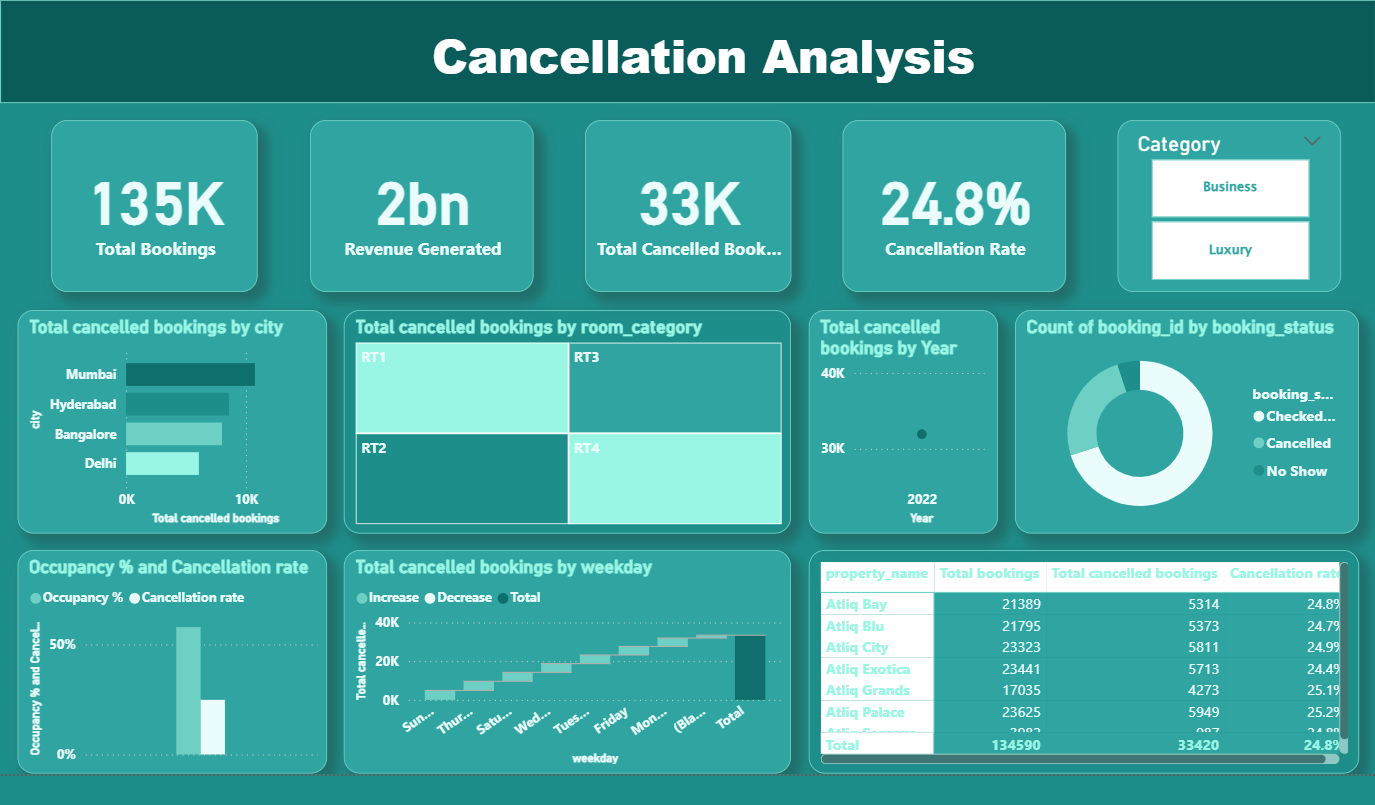

The dashboard page shown, as its layout file describes it:
{"tool":"powerbi","page":{"name":"Cancellation Analysis","canvas":[1280,720],"ordinal":3},"visuals":[{"type":"card","fields":{"Values":["resource_measures.Total bookings"]},"box":[48,112,192,160],"z":0},{"type":"card","fields":{"Values":["resource_measures.Total cancelled bookings"]},"box":[544,112,192,160],"z":1000},{"type":"card","fields":{"Values":["resource_measures.Cancellation rate"]},"box":[784,112,208,160],"z":2000},{"type":"card","fields":{"Values":["Sum(fact_bookings.revenue_generated)"]},"box":[288,112,208,160],"z":3000},{"type":"barChart","fields":{"Category":["dim_hotels.city"],"Y":["resource_measures.Total cancelled bookings"]},"box":[16,288,288,208],"z":4000},{"type":"treemap","fields":{"Group":["fact_aggregated_bookings.room_category"],"Values":["resource_measures.Total cancelled bookings"]},"box":[320,288,416,208],"z":5000},{"type":"lineChart","fields":{"Category":["dim_date.mmm yy.Variation.Date Hierarchy.Year","dim_date.mmm yy.Variation.Date Hierarchy.Quarter","dim_date.mmm yy.Variation.Date Hierarchy.Month","dim_date.mmm yy.Variation.Date Hierarchy.Day"],"Y":["resource_measures.Total cancelled bookings"]},"box":[752,288,176,208],"z":6000},{"type":"donutChart","fields":{"Category":["fact_bookings.booking_status"],"Y":["CountNonNull(fact_bookings.booking_id)"]},"box":[944,288,320,208],"z":7000},{"type":"pivotTable","fields":{"Rows":["dim_hotels.property_name"],"Values":["resource_measures.Total bookings","resource_measures.Total cancelled bookings","resource_measures.Cancellation rate"]},"box":[752,512,512,208],"z":8000},{"type":"clusteredColumnChart","fields":{"Y":["resource_measures.Occupancy %","resource_measures.Cancellation rate"]},"box":[16,512,288,208],"z":9000},{"type":"waterfallChart","fields":{"Category":["dim_date.weekday"],"Y":["resource_measures.Total cancelled bookings"]},"box":[320,512,416,208],"z":10000},{"type":"slicer","fields":{"Values":["dim_hotels.category"]},"box":[1040,112,208,160],"z":11000},{"type":"shape","box":[0,0,1280,96],"z":12000},{"type":"textbox","box":[0,16,1280,96],"z":13000}]}

Visuals, with their boxes on the page's 1280x720 design canvas (x1, y1, x2, y2). These are canvas units, not pixel positions in the 1375x805 screenshot, which may show the page scaled, cropped or inside an application window:
card - resource_measures.Total bookings: x1=48, y1=112, x2=240, y2=272
card - resource_measures.Total cancelled bookings: x1=544, y1=112, x2=736, y2=272
card - resource_measures.Cancellation rate: x1=784, y1=112, x2=992, y2=272
card - Sum(fact_bookings.revenue_generated): x1=288, y1=112, x2=496, y2=272
barChart - dim_hotels.city x resource_measures.Total cancelled bookings: x1=16, y1=288, x2=304, y2=496
treemap - fact_aggregated_bookings.room_category x resource_measures.Total cancelled bookings: x1=320, y1=288, x2=736, y2=496
lineChart - dim_date.mmm yy.Variation.Date Hierarchy.Year x dim_date.mmm yy.Variation.Date Hierarchy.Quarter: x1=752, y1=288, x2=928, y2=496
donutChart - fact_bookings.booking_status x CountNonNull(fact_bookings.booking_id): x1=944, y1=288, x2=1264, y2=496
pivotTable - dim_hotels.property_name x resource_measures.Total bookings: x1=752, y1=512, x2=1264, y2=720
clusteredColumnChart - resource_measures.Occupancy % x resource_measures.Cancellation rate: x1=16, y1=512, x2=304, y2=720
waterfallChart - dim_date.weekday x resource_measures.Total cancelled bookings: x1=320, y1=512, x2=736, y2=720
slicer - dim_hotels.category: x1=1040, y1=112, x2=1248, y2=272
shape: x1=0, y1=0, x2=1280, y2=96
textbox: x1=0, y1=16, x2=1280, y2=112
